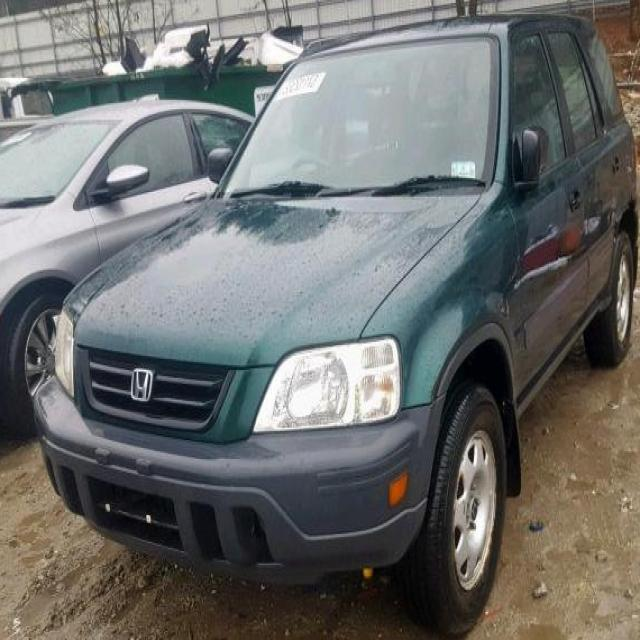green: (35, 21, 637, 624)
